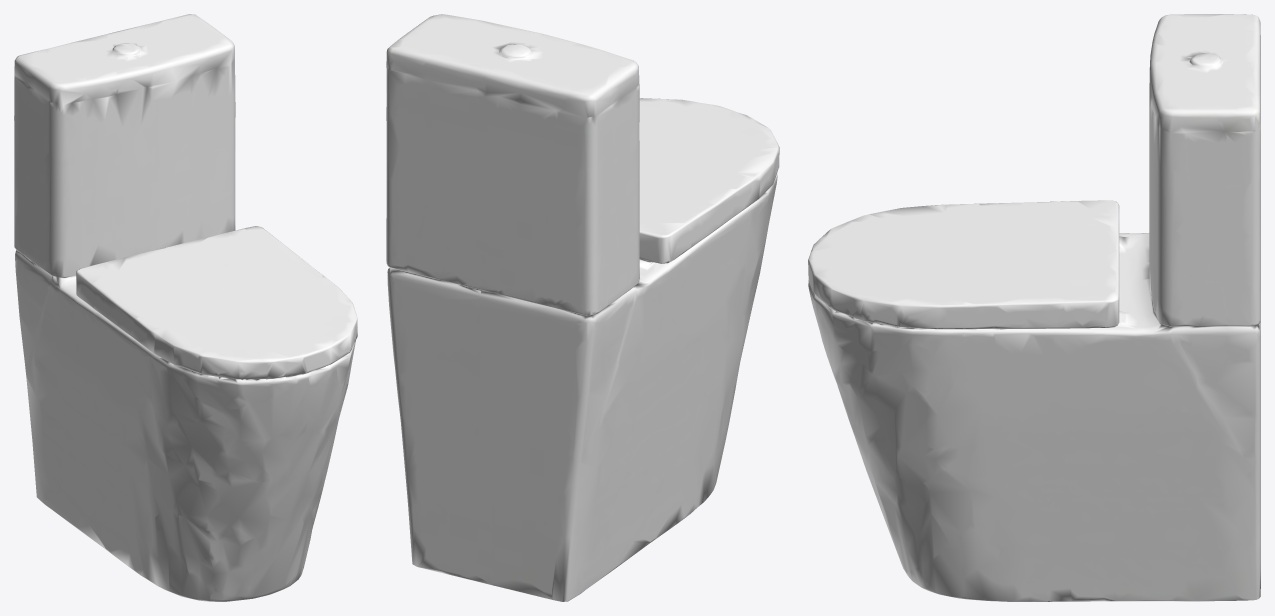
The model's file is Modern White Toilet.glb.
3 views of the same model, side by side, from view 1: azimuth 30°, elevation 25°; view 2: azimuth 150°, elevation 25°; view 3: azimuth 270°, elevation 25° (orthographic). The views are drawn at different scales.
Parts seen in each view (by area): view 1: Mesh_0.002; view 2: Mesh_0.002; view 3: Mesh_0.002.
Part boxes in pixels (box(x1,y1,x2,y2)): Mesh_0.002: box(14, 14, 357, 601); Mesh_0.002: box(386, 14, 779, 601); Mesh_0.002: box(808, 14, 1260, 601).
Bounding box in the file's own units: 0.3462 × 0.8 × 0.6486.
Materials: 1 (1 with a texture image).
